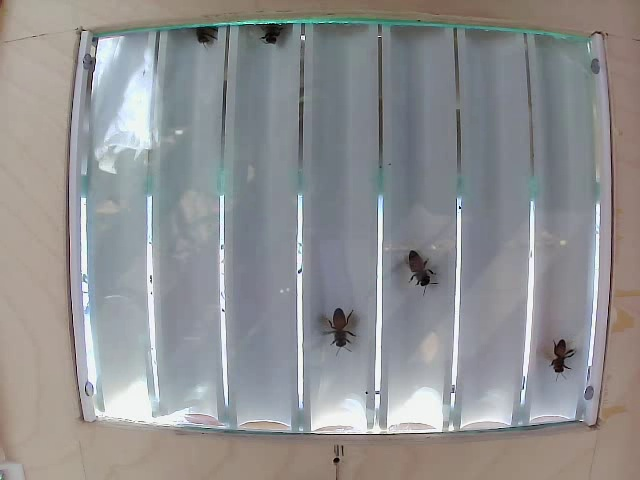bee: (388, 246, 446, 303), (544, 336, 586, 397), (306, 304, 347, 357), (256, 18, 295, 57), (193, 23, 217, 59)
